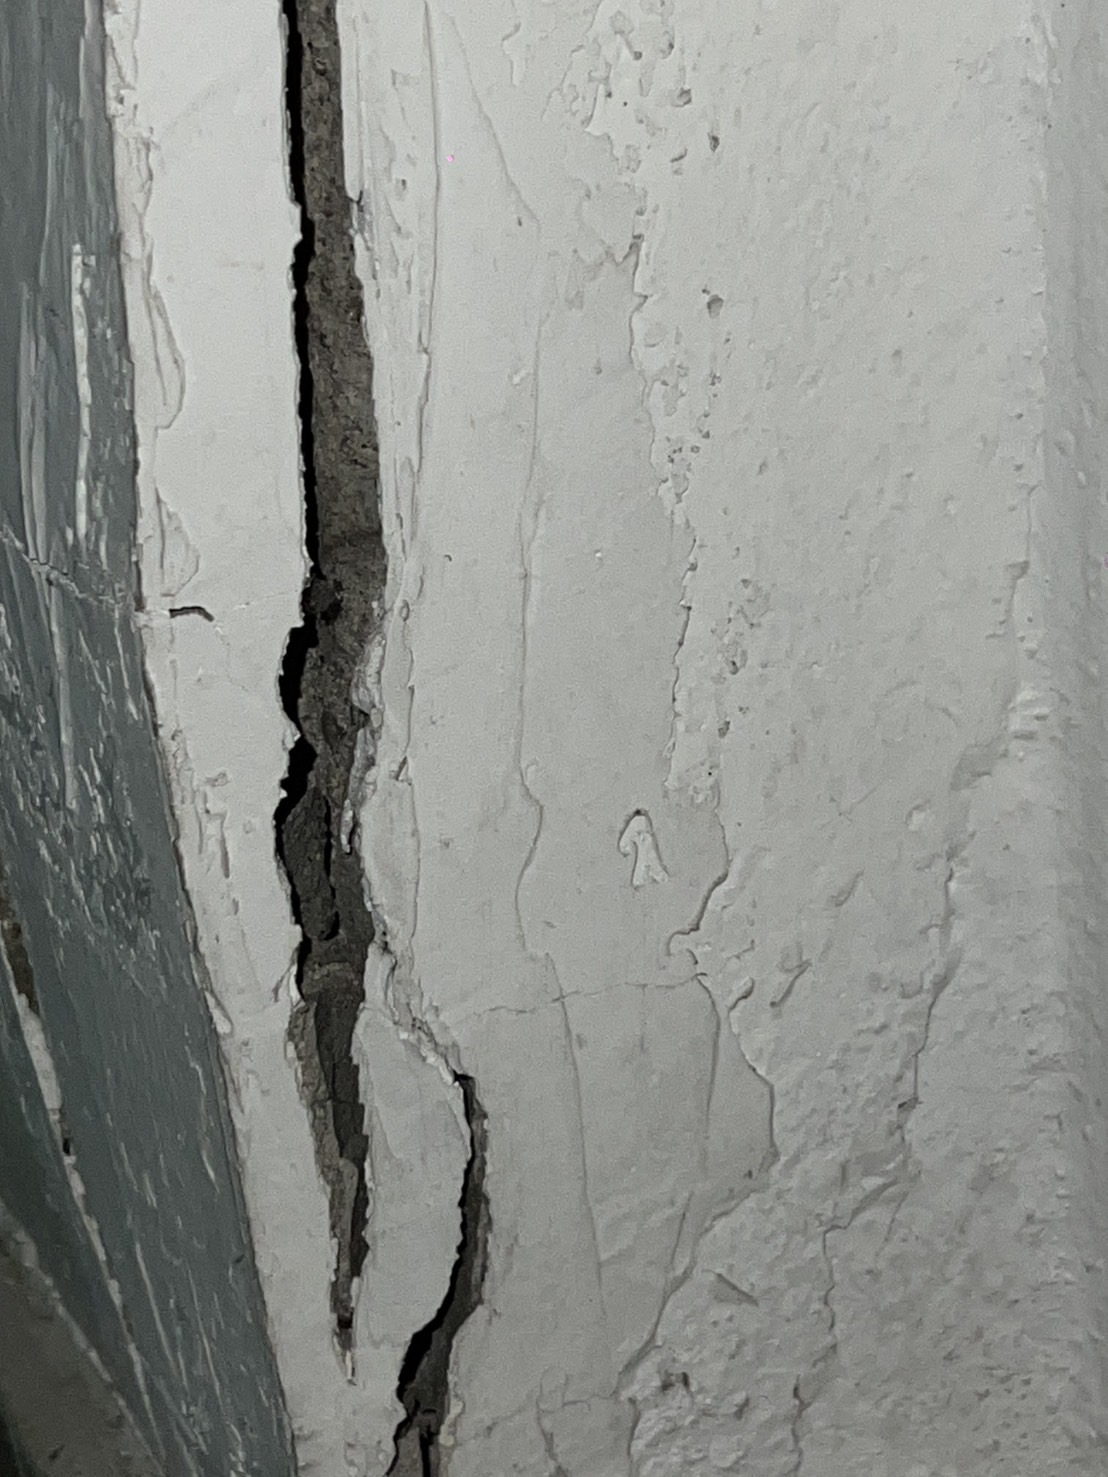High: (178, 1, 537, 1476)
